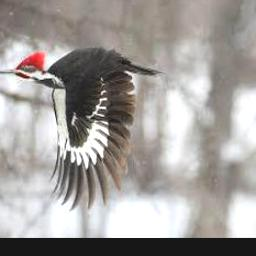Woodpecker: (0, 49, 162, 208)
